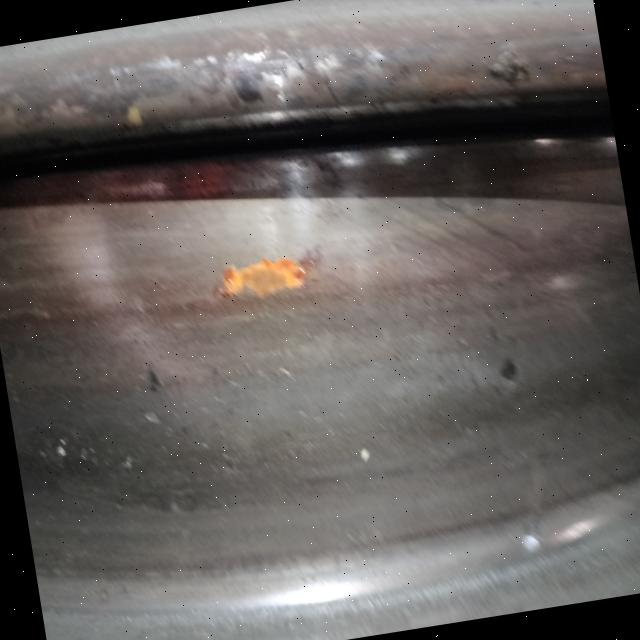Blue hole: (479, 347, 531, 409), (128, 358, 172, 411)
